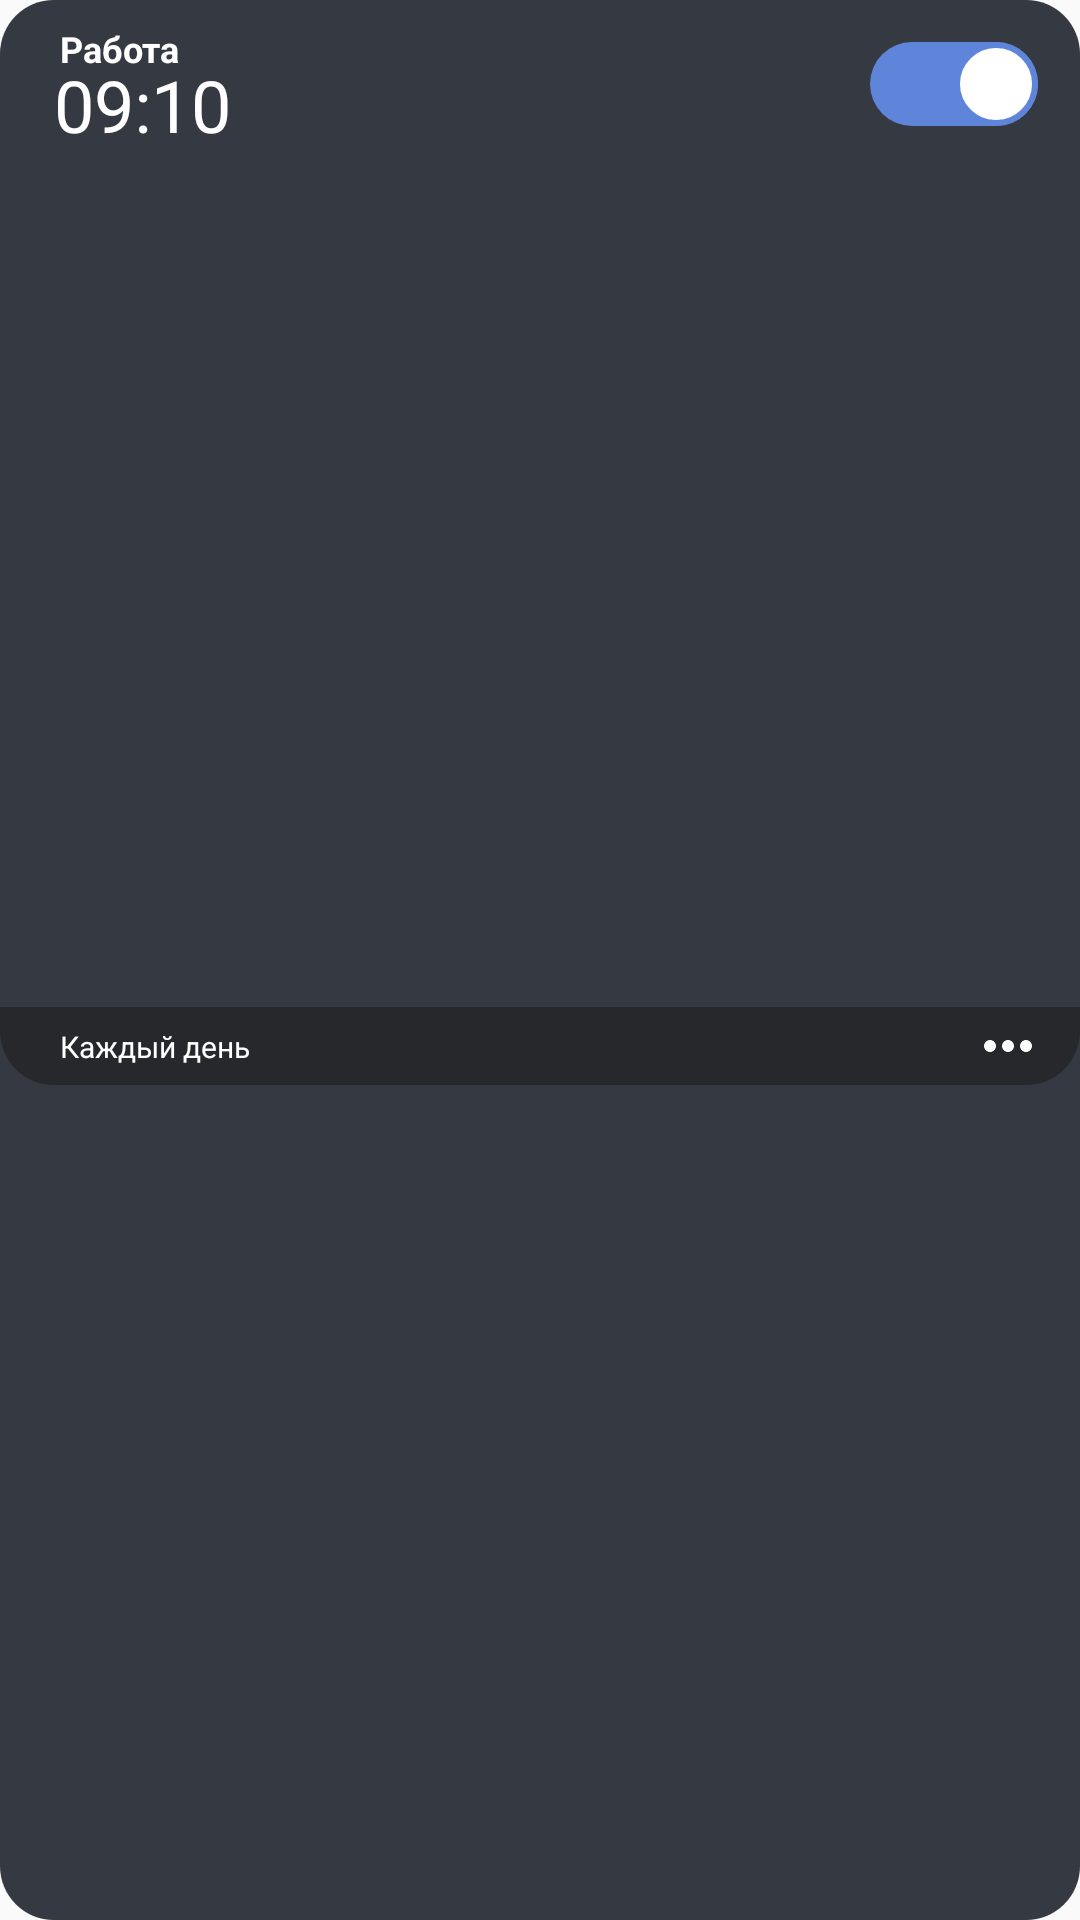

Where icons sit on this 1080 × 1920 app screen, as (x1, y1, x2, y2):
more info: (984, 1040, 1032, 1052)
